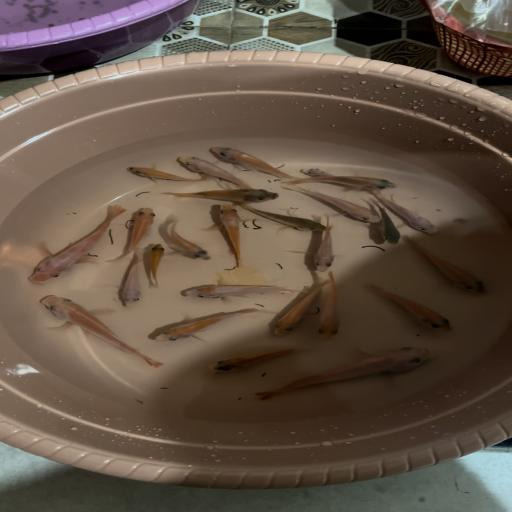nila: (258, 342, 436, 404), (31, 292, 166, 370), (24, 201, 128, 286), (146, 301, 276, 348), (402, 238, 495, 298), (364, 282, 456, 335), (286, 186, 386, 226), (200, 343, 308, 377), (258, 285, 322, 342), (213, 143, 301, 181), (178, 278, 300, 305), (212, 201, 258, 272), (311, 272, 357, 342), (172, 153, 256, 189), (374, 192, 439, 235), (164, 212, 217, 264), (159, 183, 289, 204), (243, 202, 327, 234), (109, 207, 157, 262), (307, 214, 346, 273), (123, 159, 210, 185), (278, 173, 402, 191), (115, 247, 149, 309), (368, 200, 406, 246), (144, 241, 180, 288), (292, 165, 332, 178)
